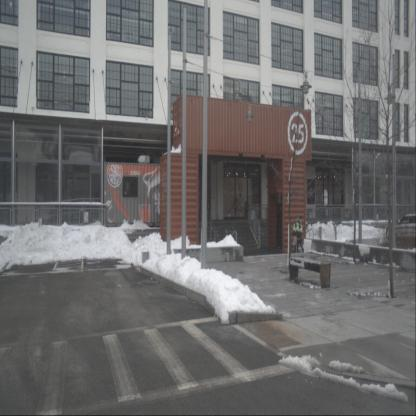vehicle-car: (385, 211, 416, 251)
